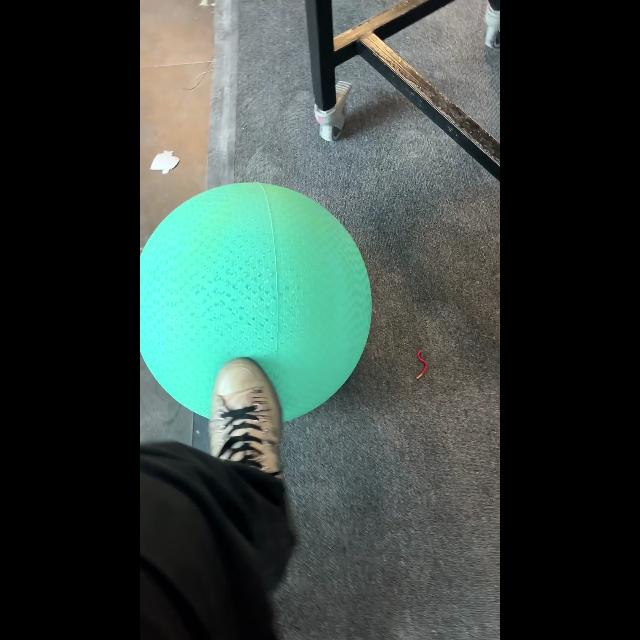ALGAE: (140, 181, 372, 423)
